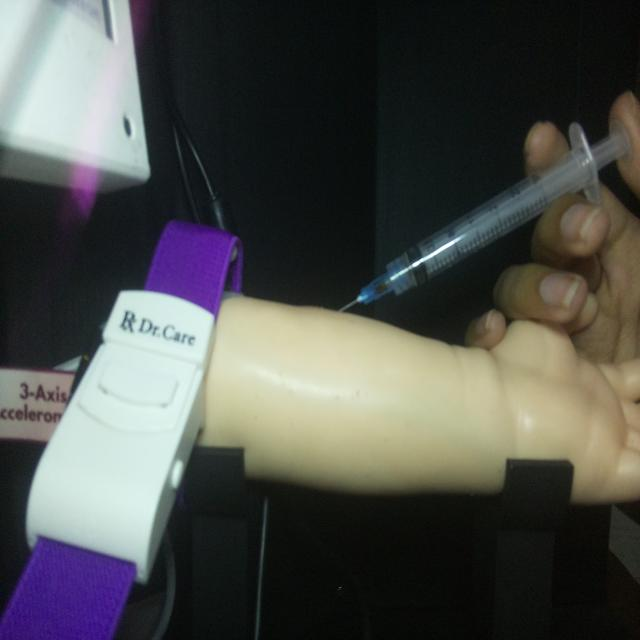22 degrees: (336, 116, 632, 314)
